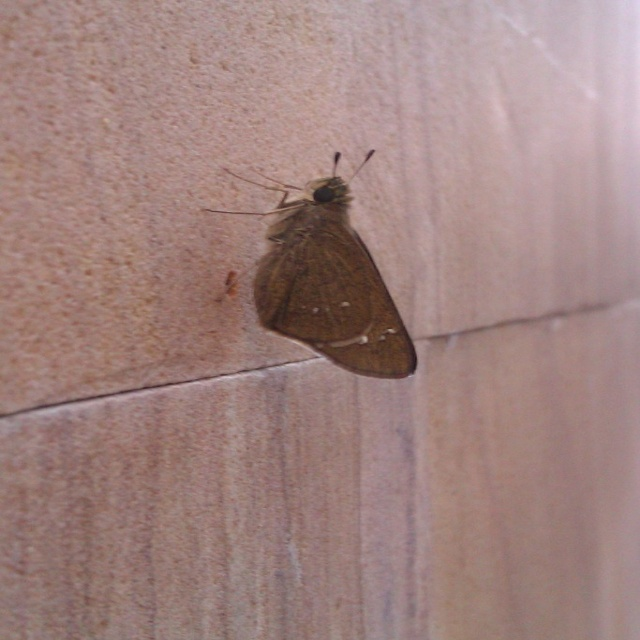Butterfly: (195, 132, 425, 379)
